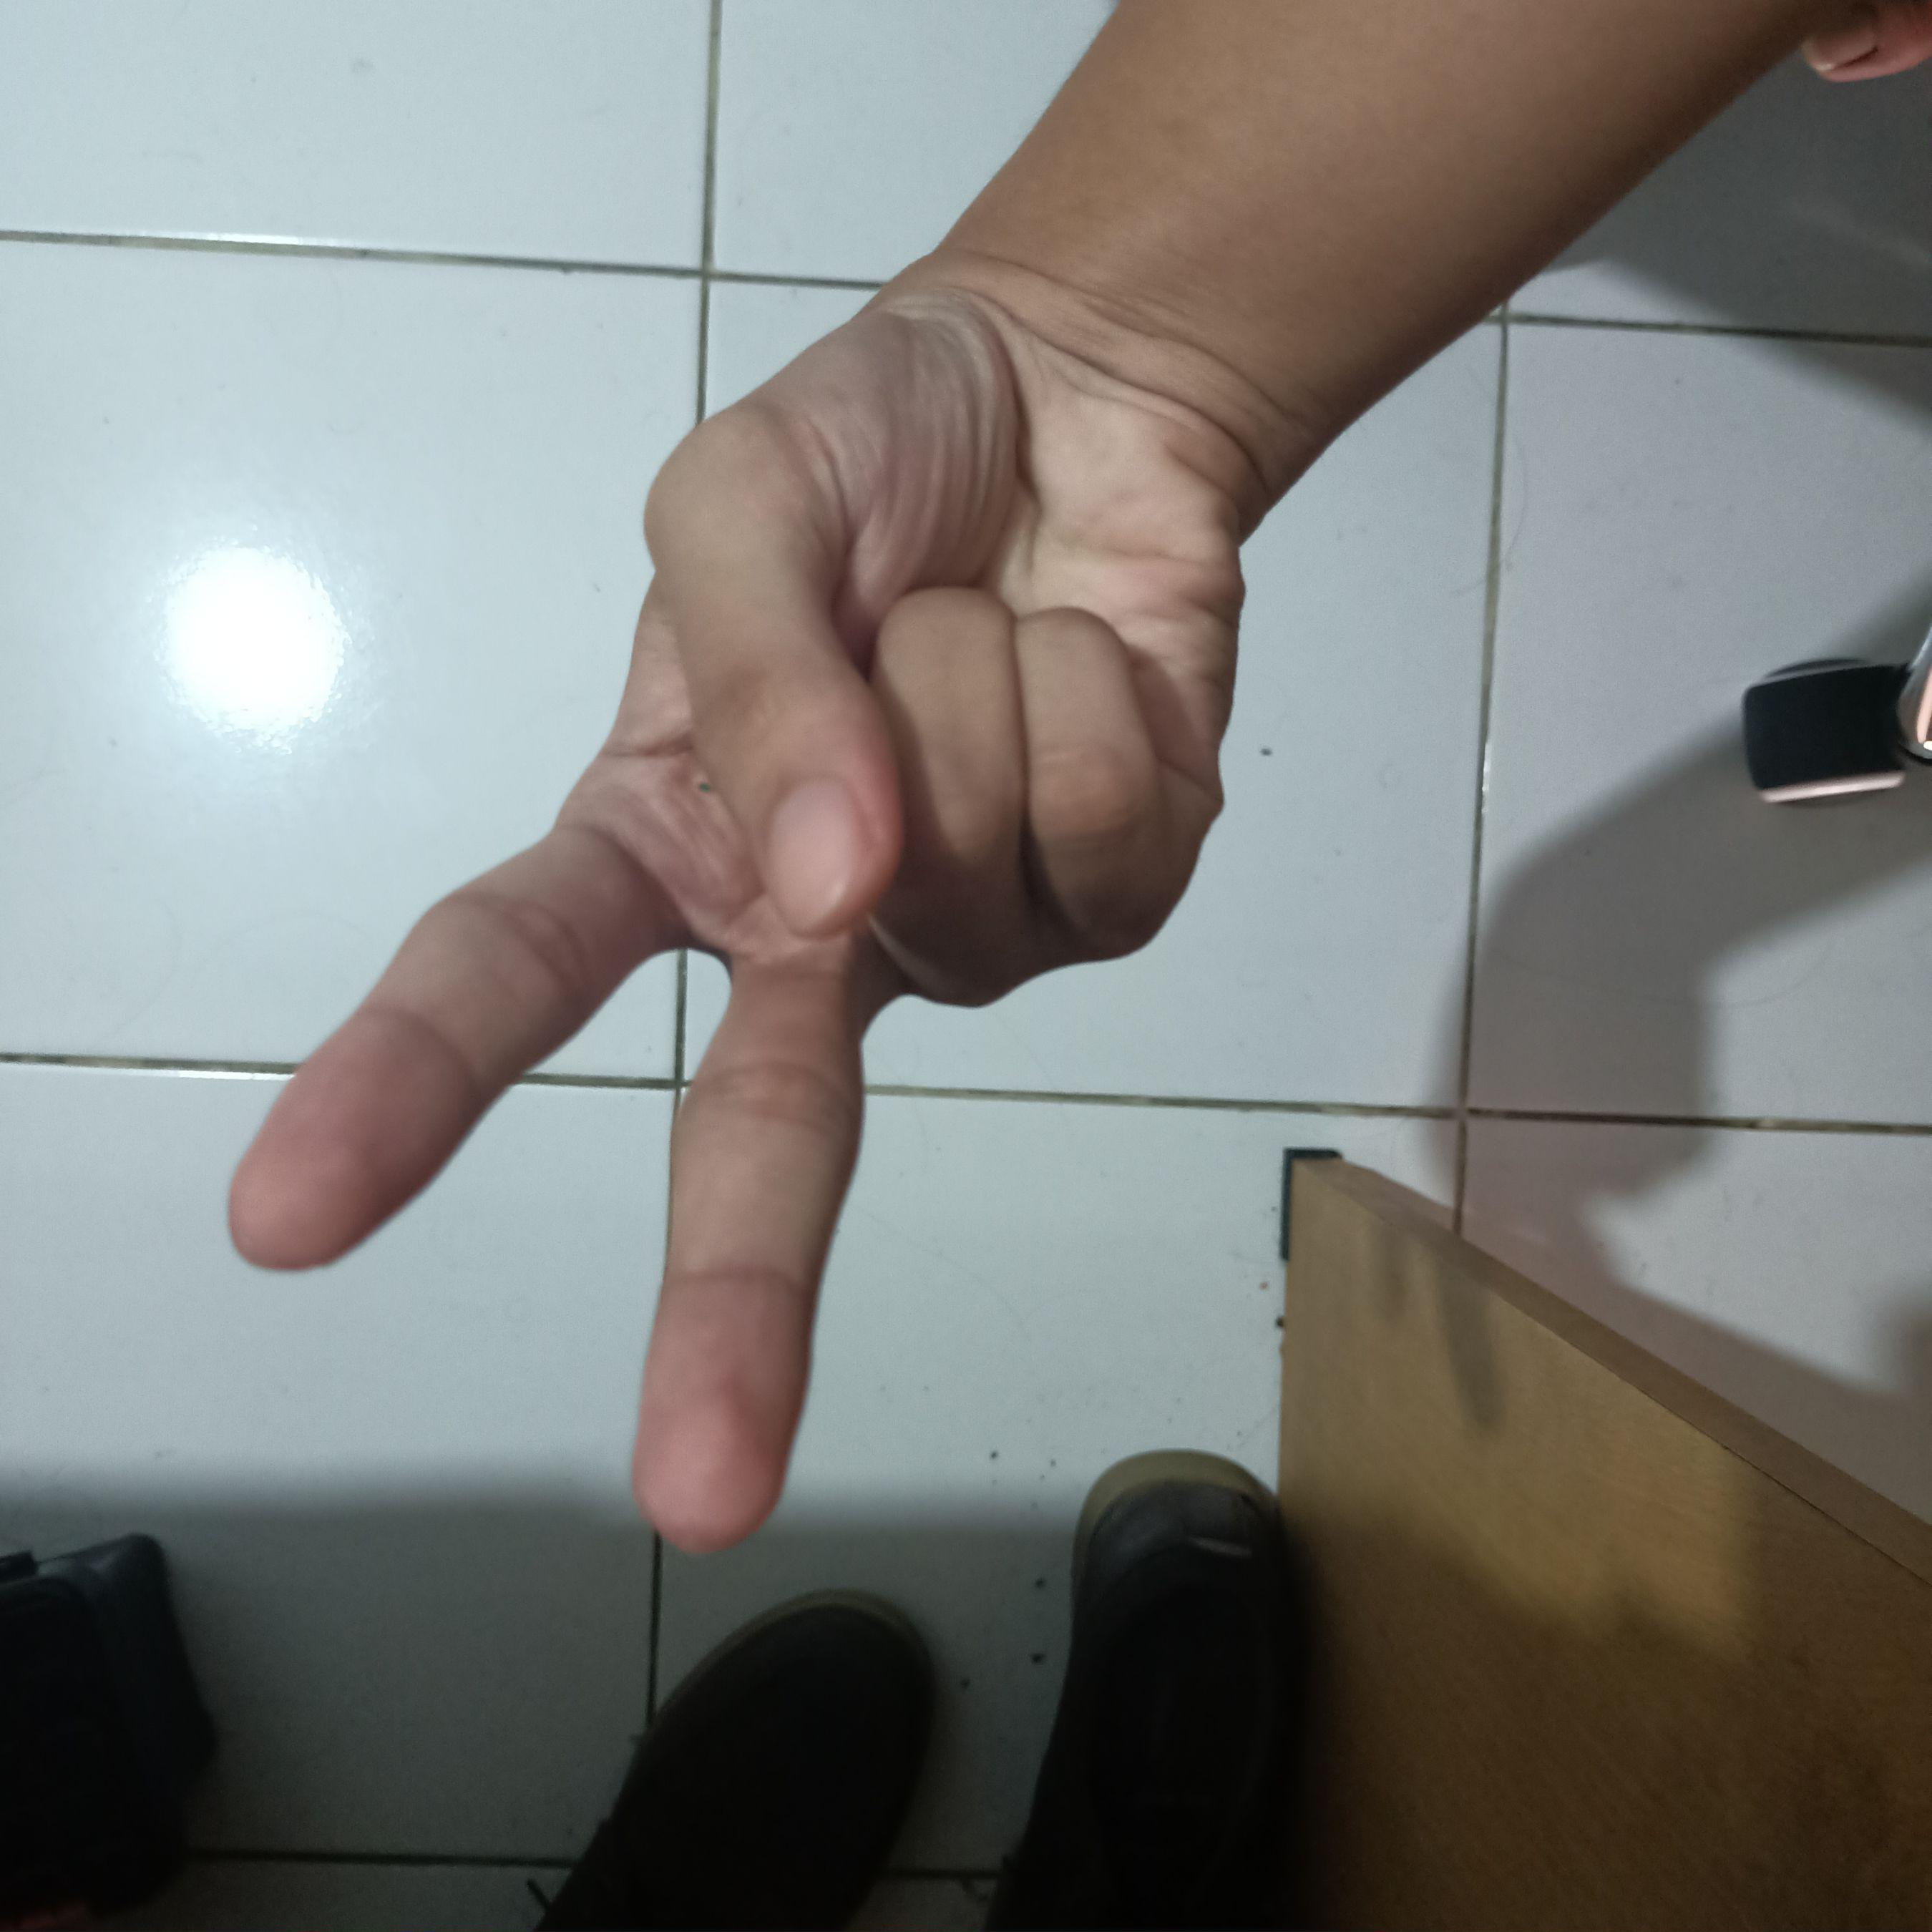scissors: (182, 251, 1293, 1562)
